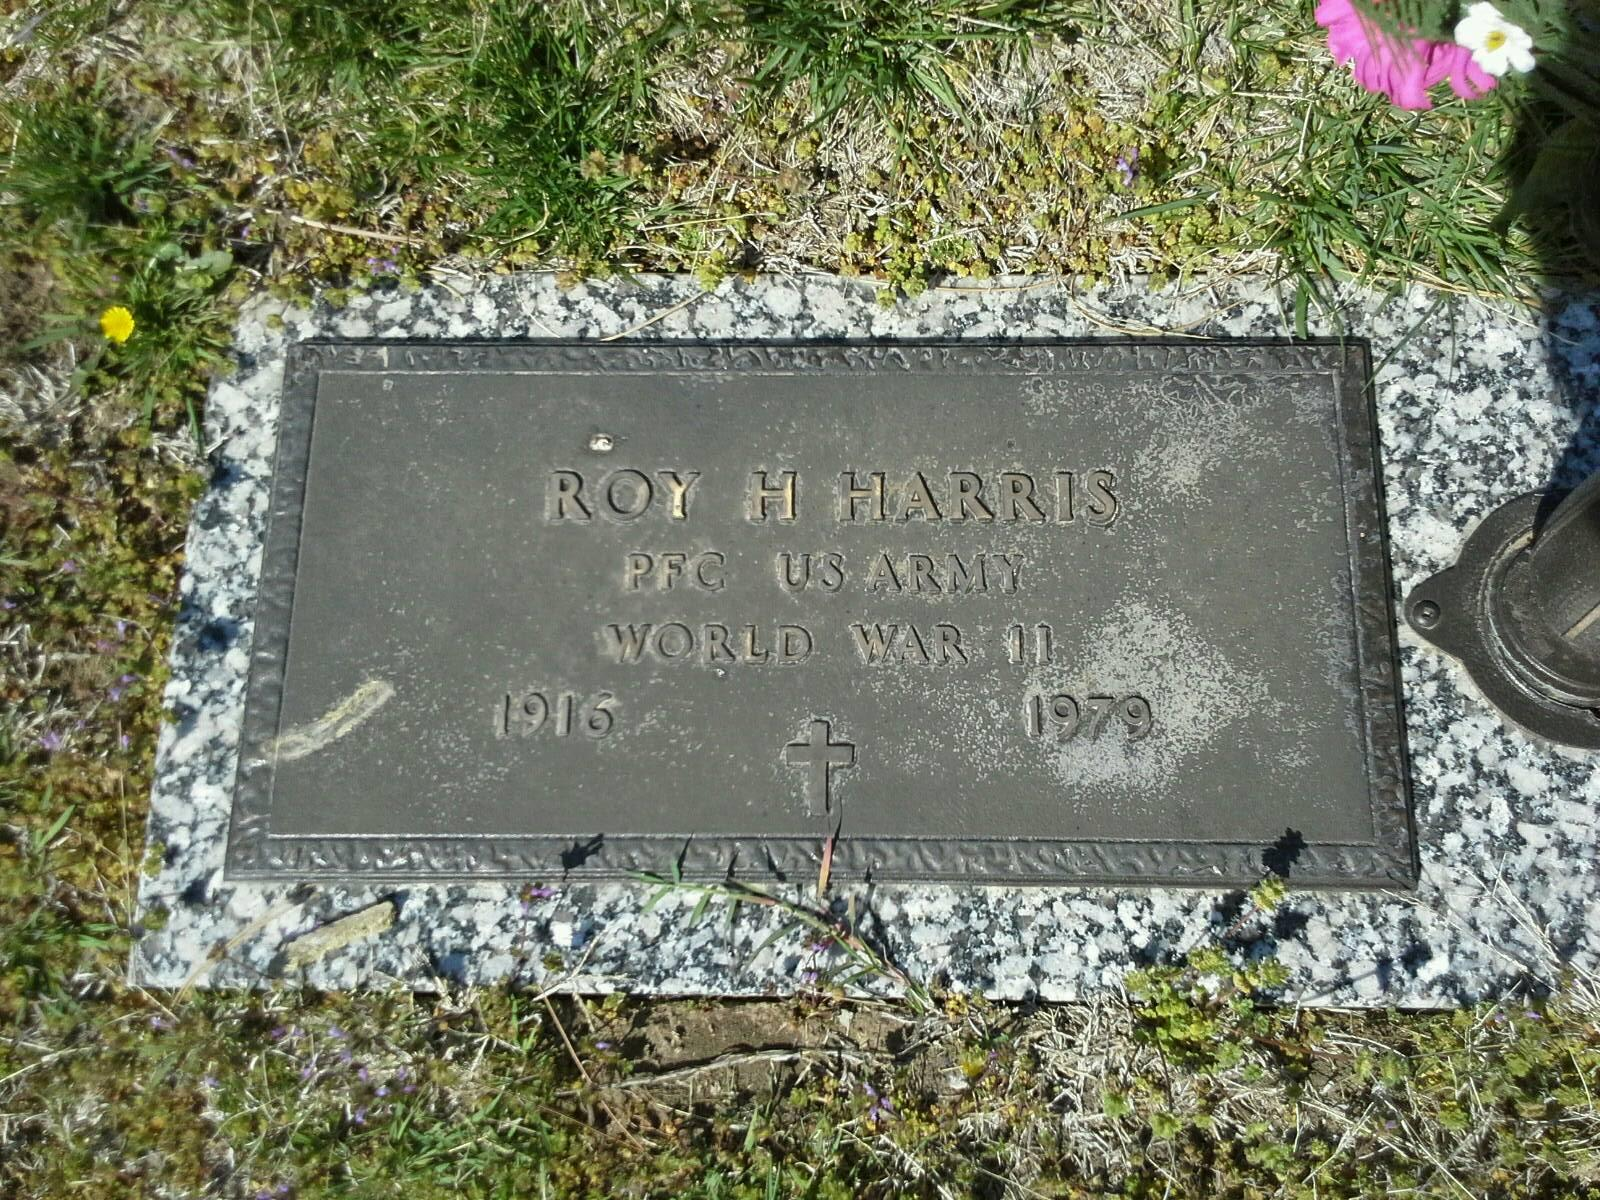flat: (164, 224, 1536, 1015)
